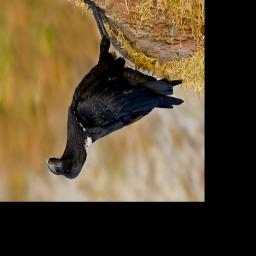Crow: (45, 0, 184, 179)
